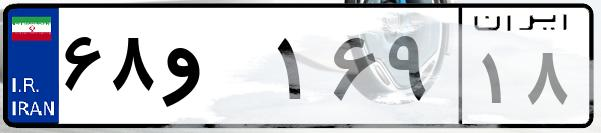1: (270, 28, 330, 110), (475, 38, 525, 113)
6: (330, 28, 385, 110), (57, 26, 110, 100)
8: (525, 38, 570, 115), (110, 28, 158, 98)
9: (385, 28, 445, 110)
و: (158, 20, 270, 120)
